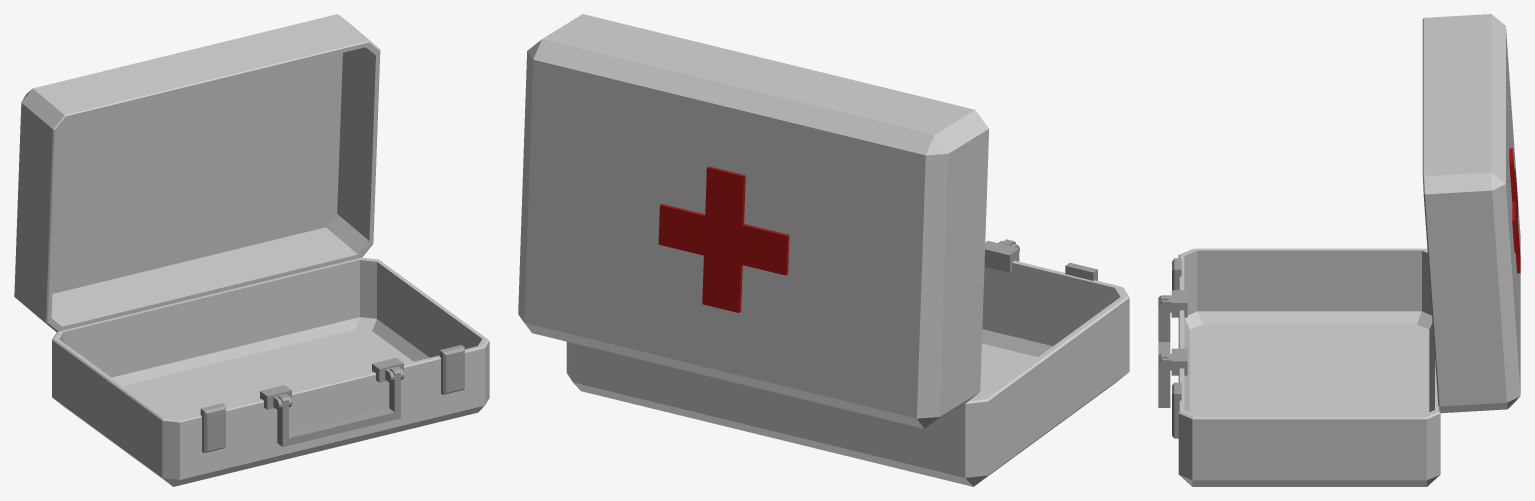
Rendered from Medicine_Chest_Opened_vc.fbx.
3 views of the same model, side by side, from view 1: azimuth 30°, elevation 25°; view 2: azimuth 150°, elevation 25°; view 3: azimuth 270°, elevation 25° (orthographic). The views are drawn at different scales.
Visible parts, largest first — view 1: Medicine_Chest_Opened_vc; view 2: Medicine_Chest_Opened_vc; view 3: Medicine_Chest_Opened_vc.
Boxes of the visible parts, bbox=[...] form: Medicine_Chest_Opened_vc: bbox=[14, 14, 489, 486]; Medicine_Chest_Opened_vc: bbox=[518, 14, 1129, 486]; Medicine_Chest_Opened_vc: bbox=[1158, 14, 1520, 486].
Bounding box in the file's own units: 24.9 × 21.49 × 22.44.
